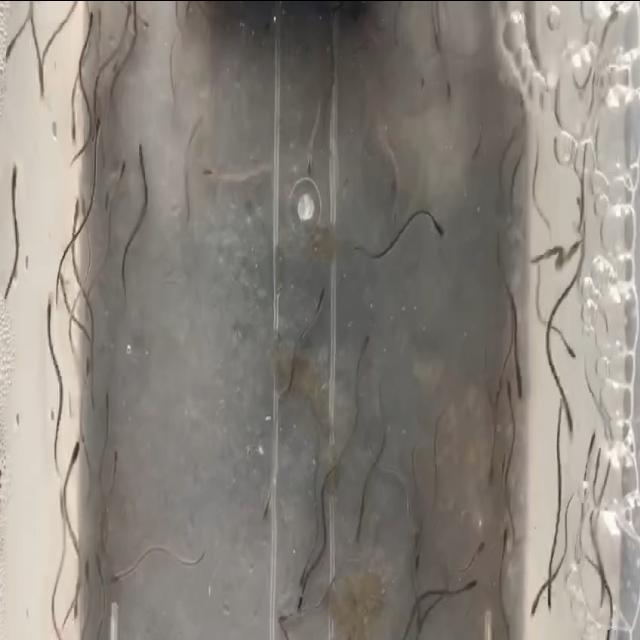active_glass_eel: (305, 280, 330, 328), (40, 276, 57, 340), (354, 319, 376, 362), (108, 152, 130, 194), (4, 150, 24, 196), (429, 210, 452, 248), (68, 193, 86, 240), (262, 484, 282, 526), (485, 434, 501, 485), (82, 0, 100, 44), (512, 366, 528, 414), (563, 230, 583, 267), (136, 4, 156, 40), (471, 528, 489, 568), (65, 432, 83, 470), (54, 482, 70, 524), (410, 538, 428, 574), (505, 114, 523, 150), (603, 2, 622, 36), (466, 570, 482, 610), (594, 570, 609, 612), (200, 152, 220, 182), (388, 188, 403, 228), (38, 60, 52, 102), (68, 112, 82, 154), (90, 108, 104, 150), (564, 404, 578, 443), (2, 38, 18, 72), (136, 132, 152, 166), (547, 131, 565, 161), (545, 580, 557, 624), (469, 128, 484, 162), (352, 514, 366, 550), (500, 375, 514, 407), (563, 338, 579, 366), (118, 2, 136, 26), (84, 390, 98, 420), (108, 444, 126, 466), (79, 556, 92, 584), (107, 568, 123, 590), (499, 514, 511, 542), (527, 591, 539, 619), (95, 549, 104, 575), (104, 384, 112, 413)
